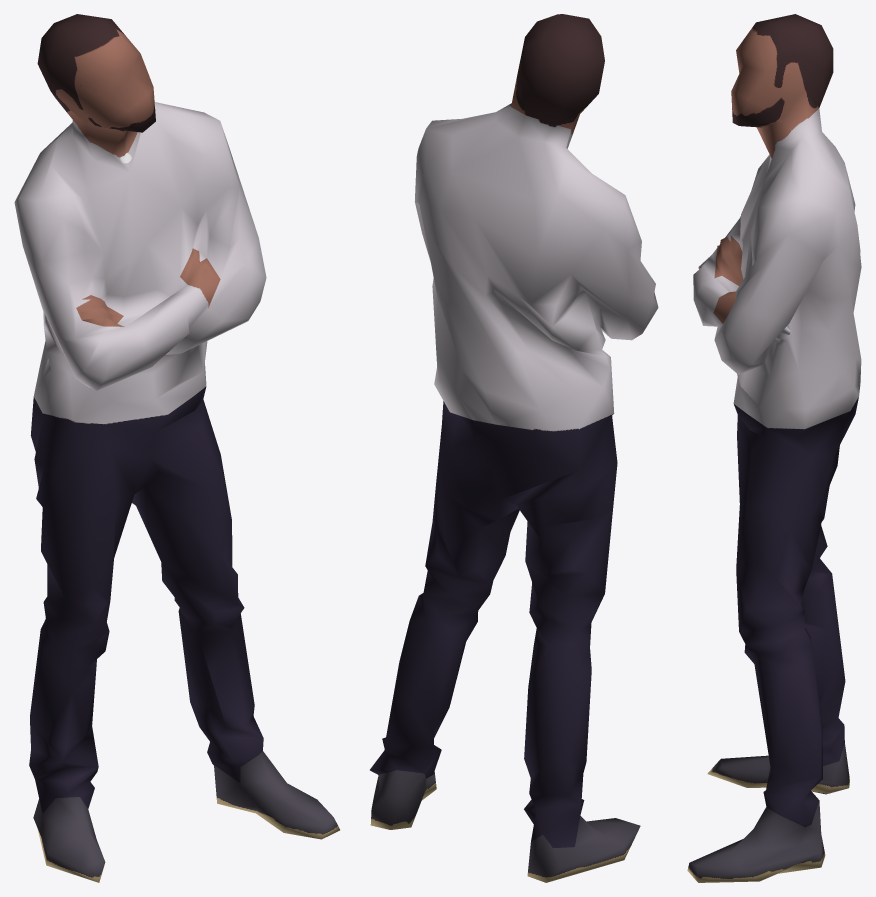
File: player1.obj
3 renders of one model, left to right at view 1: azimuth 30°, elevation 25°; view 2: azimuth 150°, elevation 25°; view 3: azimuth 270°, elevation 25°, orthographic. The views are drawn at different scales.
Visible parts, largest first — view 1: player1; view 2: player1; view 3: player1.
Part boxes in pixels (x1,y1,x2,y2): player1: [14, 14, 339, 882]; player1: [370, 14, 658, 882]; player1: [687, 14, 861, 882].
Size of the model in its own units: 53.14 by 155 by 31.78.
